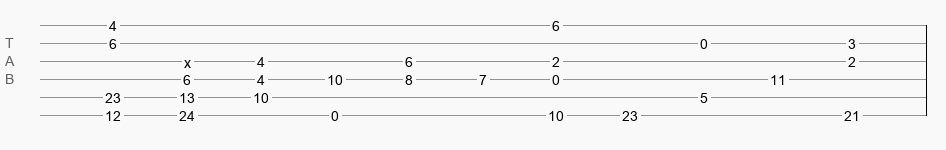0: (331, 108, 339, 118), (552, 72, 560, 82), (700, 36, 708, 46)
10: (253, 90, 269, 100), (327, 72, 343, 82), (548, 108, 564, 118)
11: (770, 72, 786, 82)
12: (105, 108, 121, 118)
13: (179, 90, 195, 100)
2: (552, 54, 560, 64), (848, 54, 856, 64)
21: (844, 108, 860, 118)
23: (105, 90, 121, 100), (622, 108, 638, 118)
24: (179, 108, 195, 118)
3: (848, 36, 856, 46)
4: (109, 18, 117, 28), (257, 72, 265, 82), (257, 54, 265, 64)
5: (700, 90, 708, 100)
6: (109, 36, 117, 46), (183, 72, 191, 82), (405, 54, 413, 64), (552, 18, 560, 28)
7: (479, 72, 487, 82)
8: (405, 72, 413, 82)
x: (184, 55, 191, 63)
